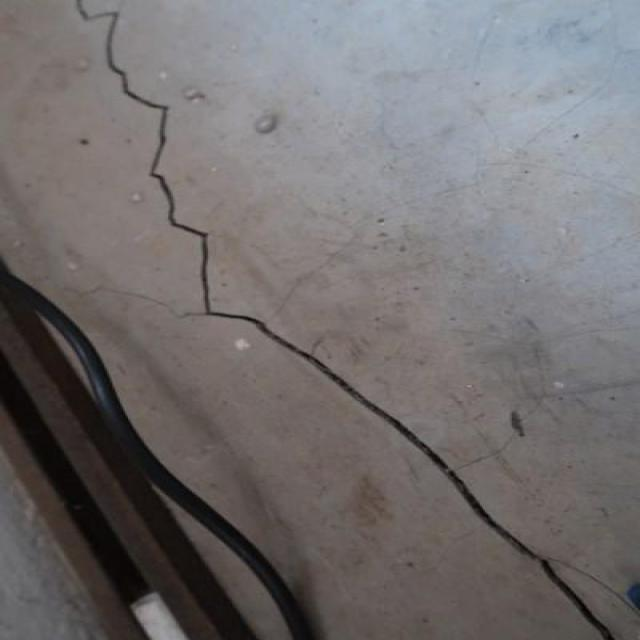diagonal crack: (69, 0, 638, 639)
